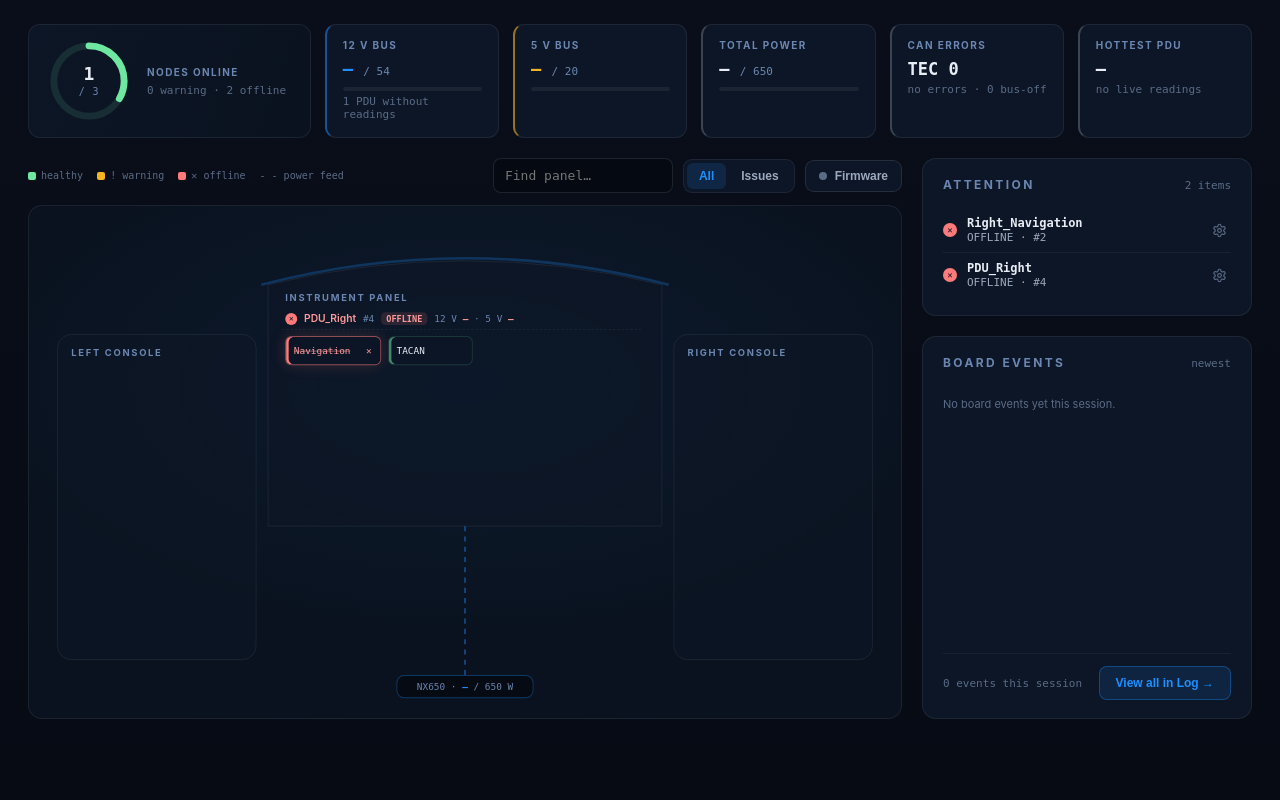
Test: T8 Board panel footer: PDU (B73, B9, B10, X8) › offline: Forget unlinks "Its 2 boards", Hide keeps the links
Click the button titled "PDU_Right — power zone details" at (462, 320), box [282,310,641,330]
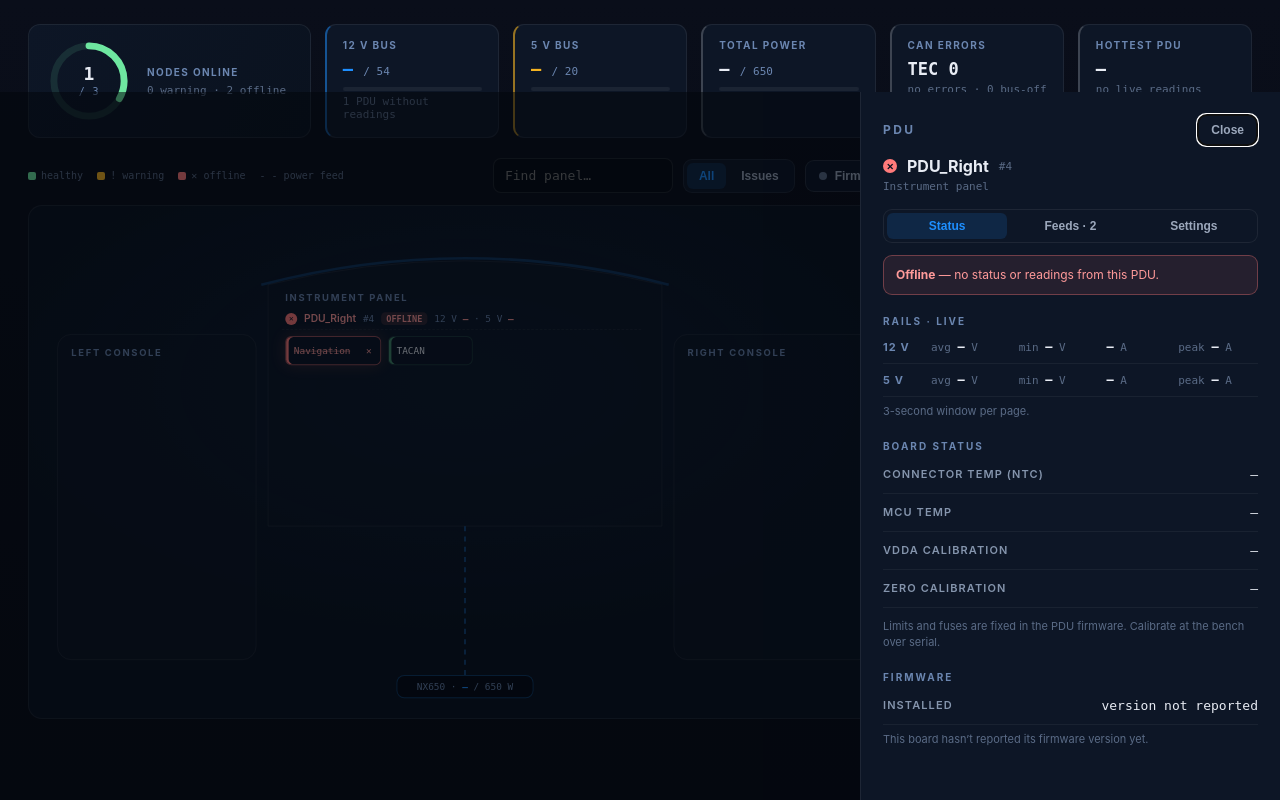
Click the tab "Settings" at (1194, 226), box [1134,213,1254,239]
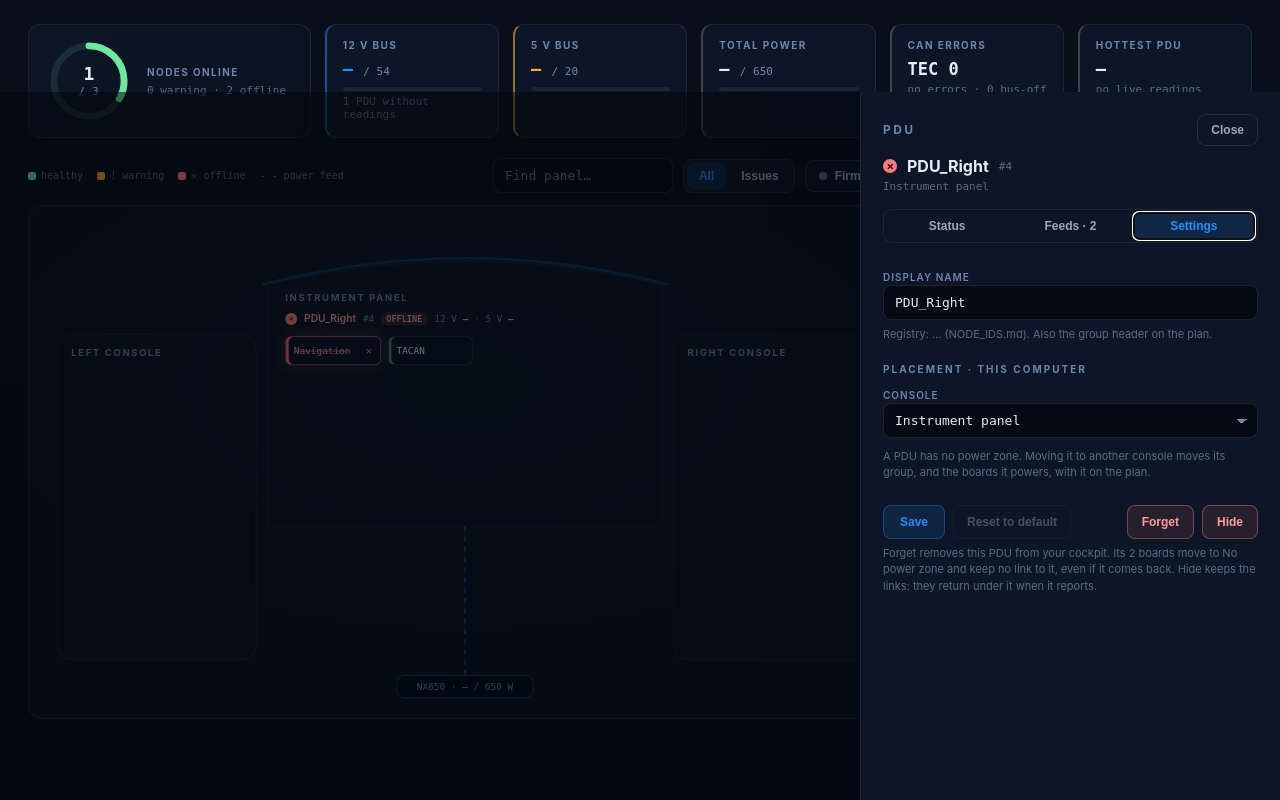
Expected: the button "Forget" is enabled, [1127,504,1194,538]
Expected: the button "Hide" is enabled, [1202,504,1258,538]
Expected: the text "Forget removes this PDU from your cockpit. Its 2 boards move to No power zone and keep no link to it, even if it comes b" is shown, [883,546,1256,592]
